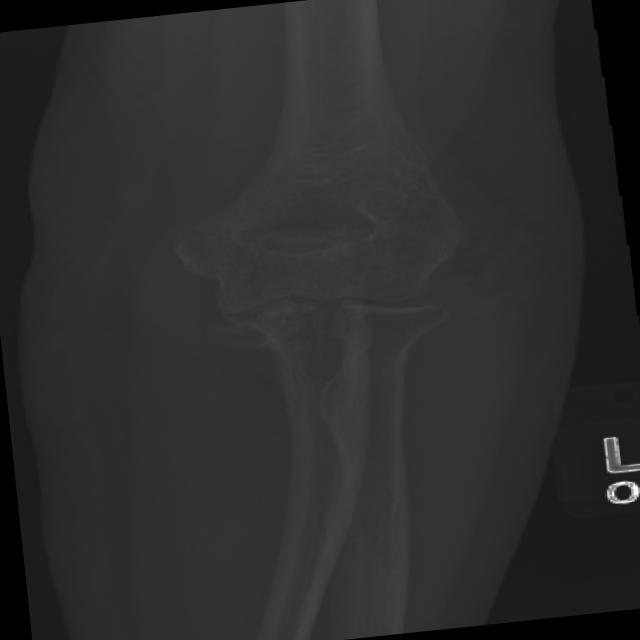elbow positive: (156, 290, 329, 385)
